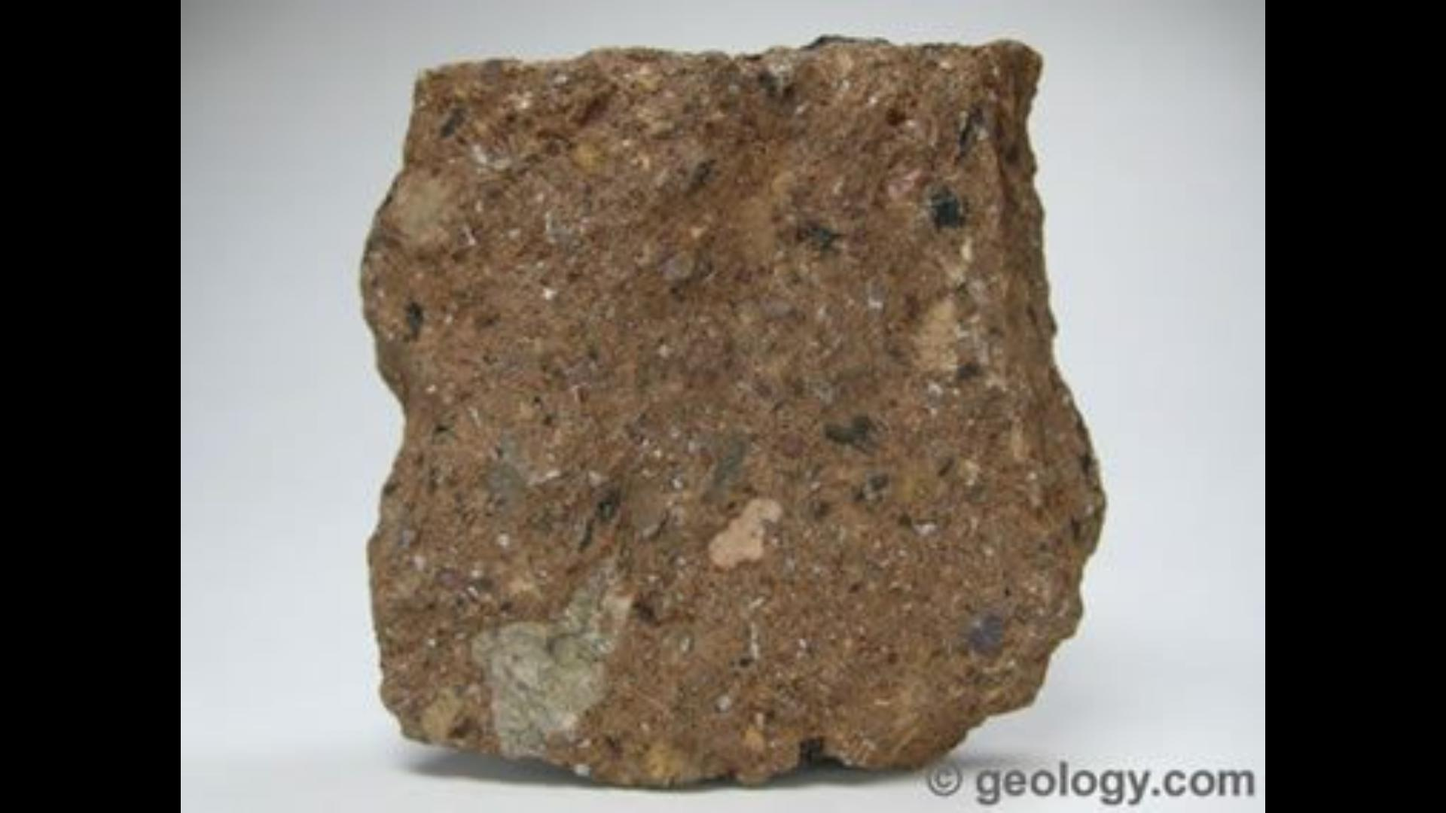rock: (363, 37, 1103, 782)
